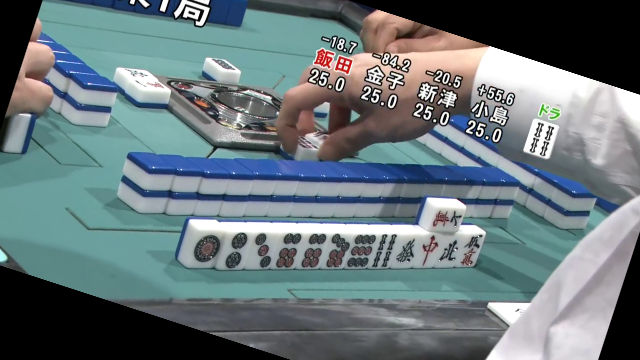Tehai: (170, 203, 490, 277)
